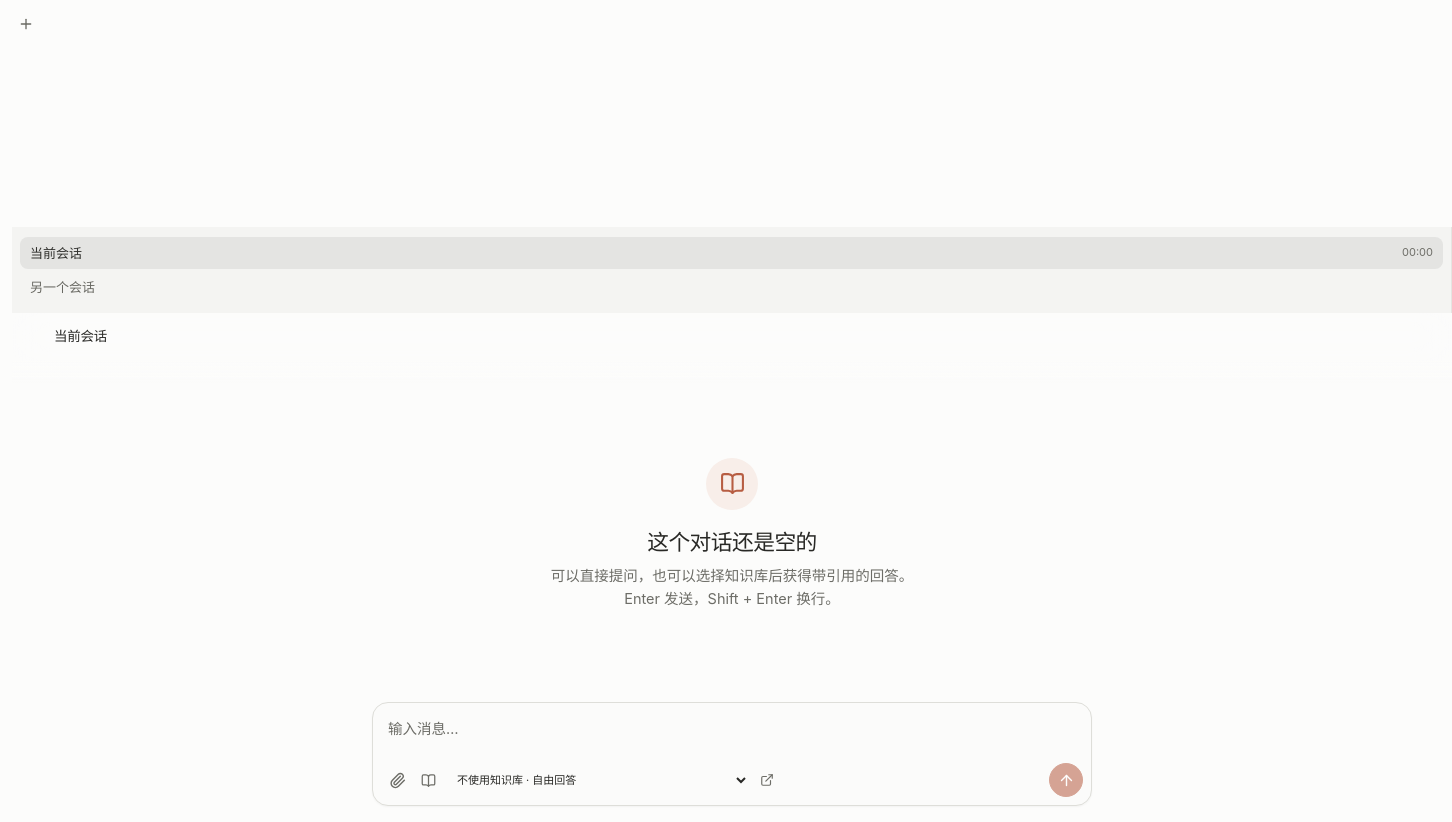
it: Chat identity boundary › uses double-click only to open another Chat session, not to rename it
Double-click the link "另一个会话" at {"x": 62, "y": 287}, box [30,279,95,295]
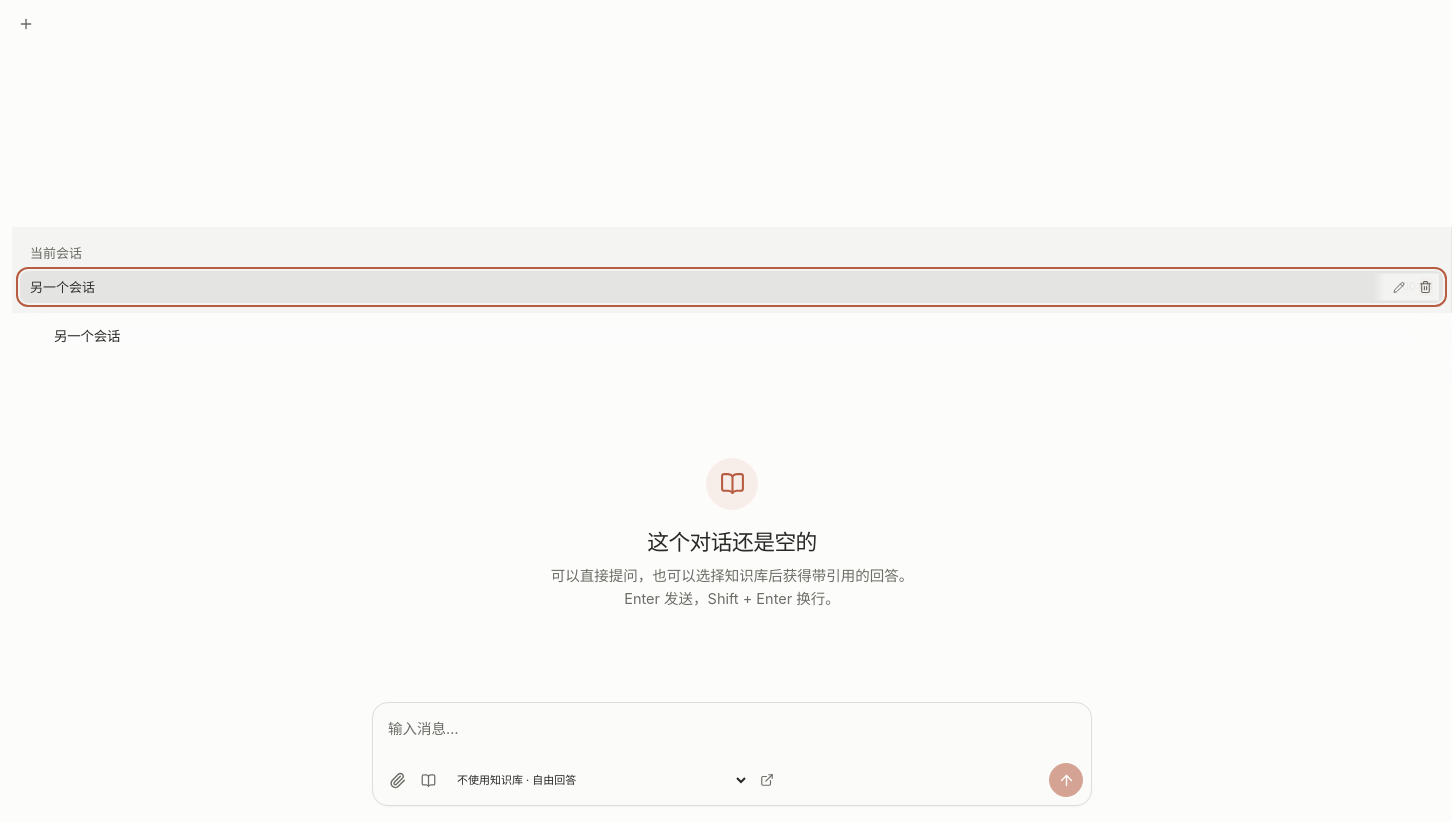
Expected: the heading "另一个会话" is shown, [54,326,120,348]
